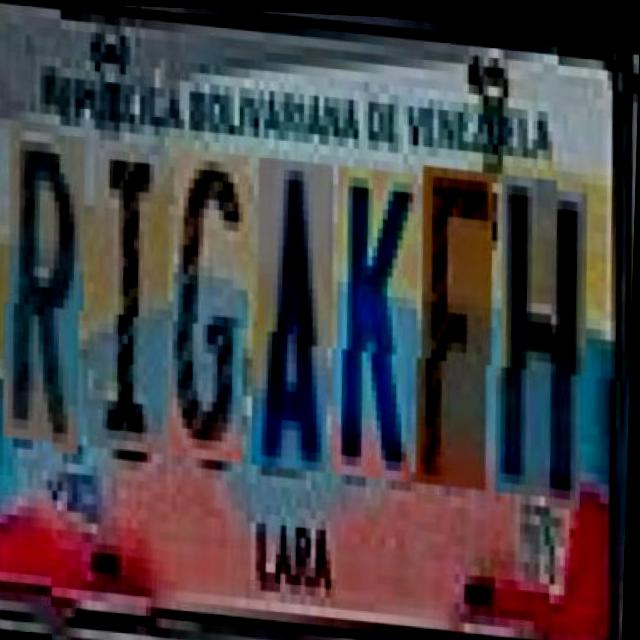a: (251, 150, 339, 465)
f: (416, 155, 499, 479)
g: (167, 142, 255, 457)
h: (495, 161, 593, 488)
i: (87, 135, 175, 450)
k: (331, 157, 423, 472)
r: (3, 129, 91, 453)
